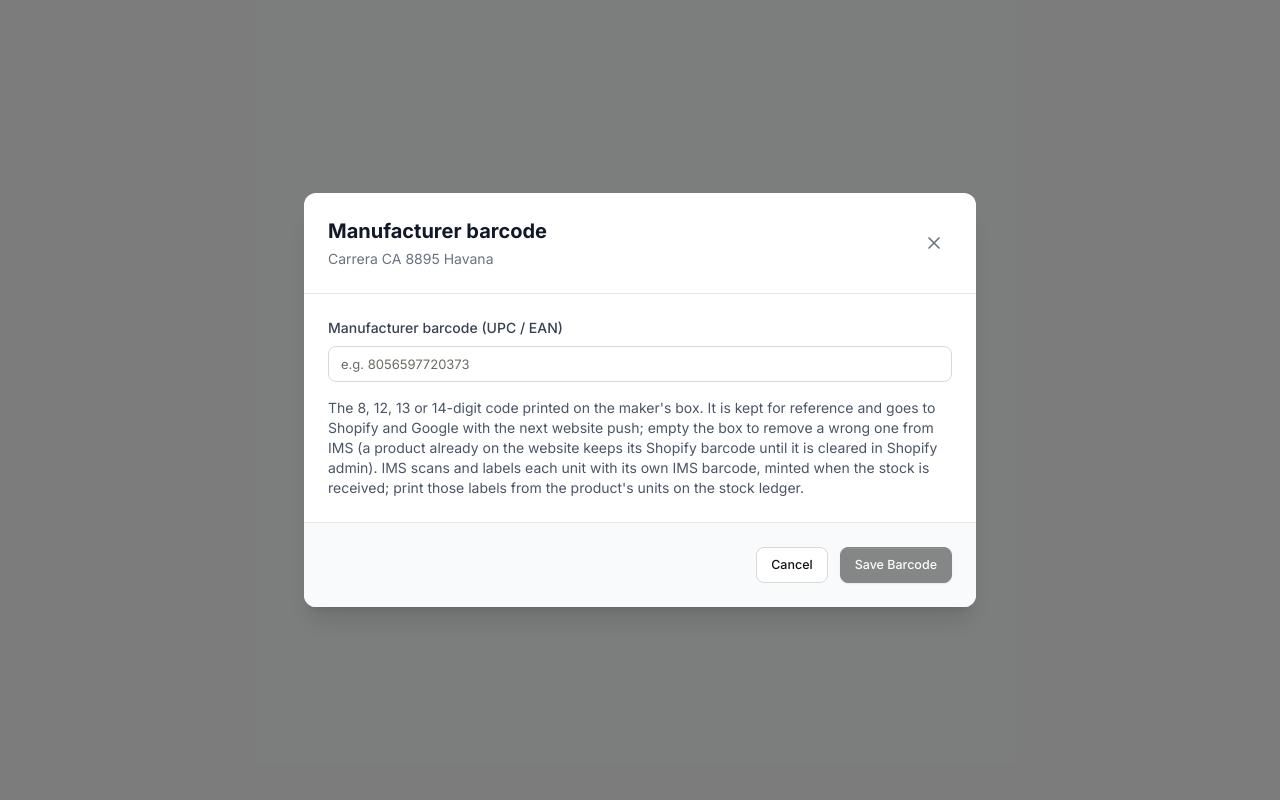
Test case: Manage Barcode (manufacturer UPC / EAN only) › shows the server's reason when the code is not a manufacturer barcode
In the field labelled "Manufacturer barcode (UPC / EAN)": (640, 364) [328, 346, 952, 382], type "BV0000000042"
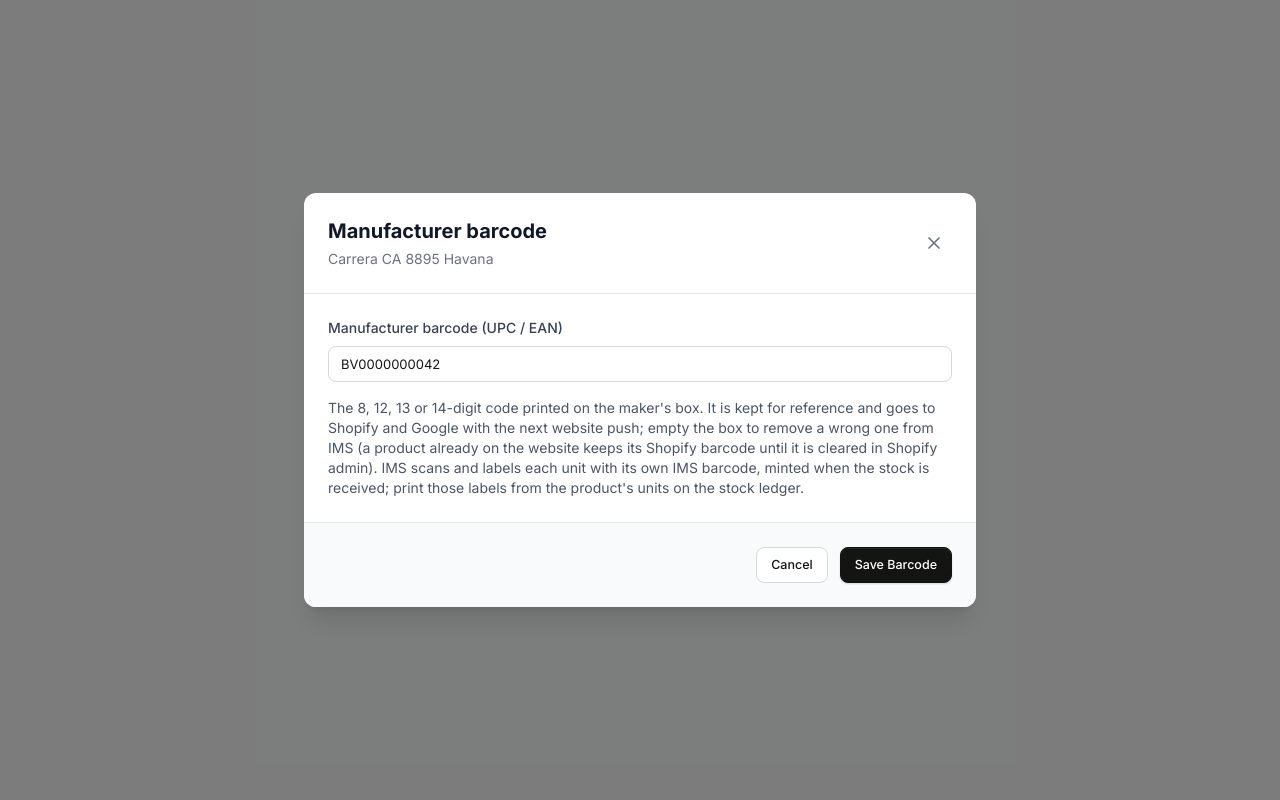
Click the button "Save Barcode": (896, 565) [840, 547, 952, 583]
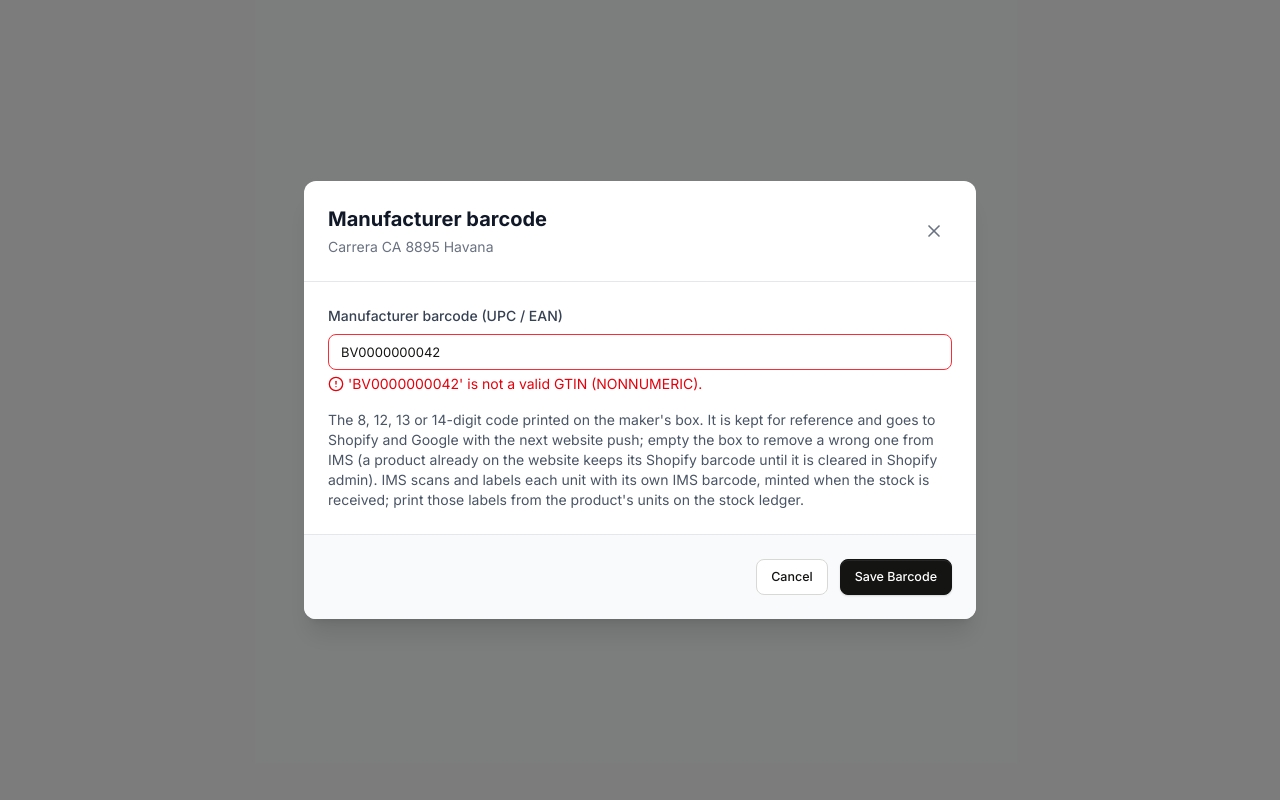
Check: the text "'BV0000000042' is not a valid GTIN (NONNUMERIC)." is shown, box [328, 375, 702, 392]
